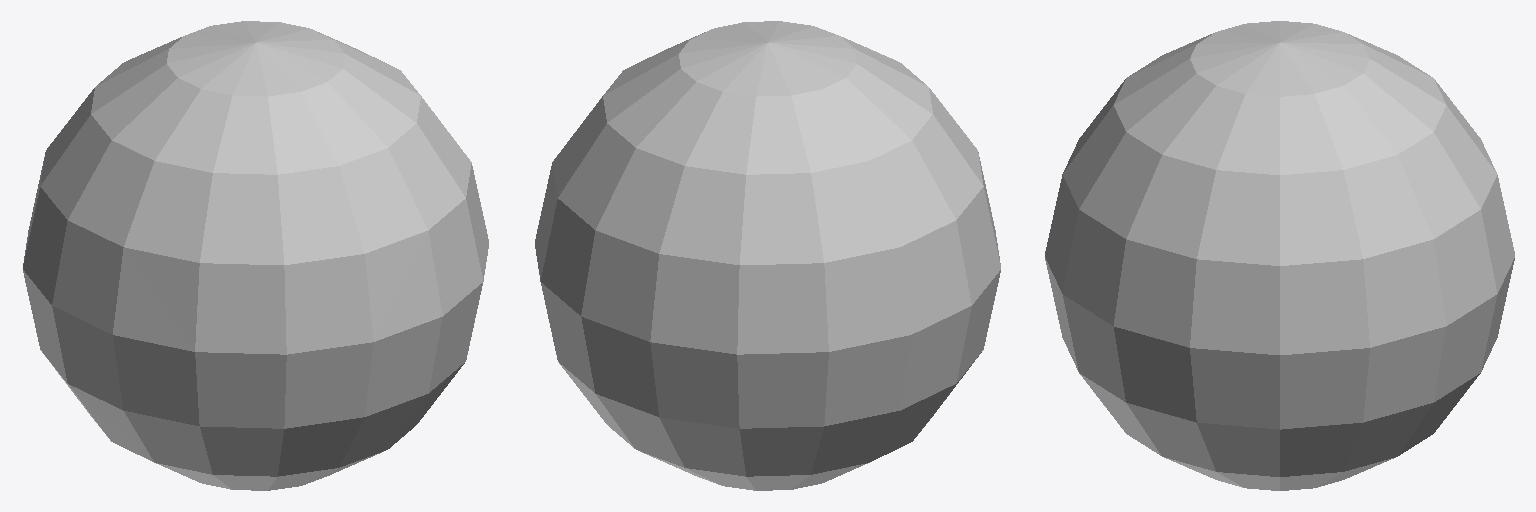
File: ball.obj
3 views of the same model, side by side, from view 1: azimuth 30°, elevation 25°; view 2: azimuth 150°, elevation 25°; view 3: azimuth 270°, elevation 25° (orthographic).
Parts seen in each view (by area): view 1: poolballq; view 2: poolballq; view 3: poolballq.
Part boxes in pixels (left/top/right/bottom): poolballq: left=23, top=21, right=488, bottom=490; poolballq: left=535, top=21, right=1000, bottom=490; poolballq: left=1045, top=21, right=1514, bottom=490.
Bounding box in the file's own units: 0.4021 × 0.4021 × 0.4021.